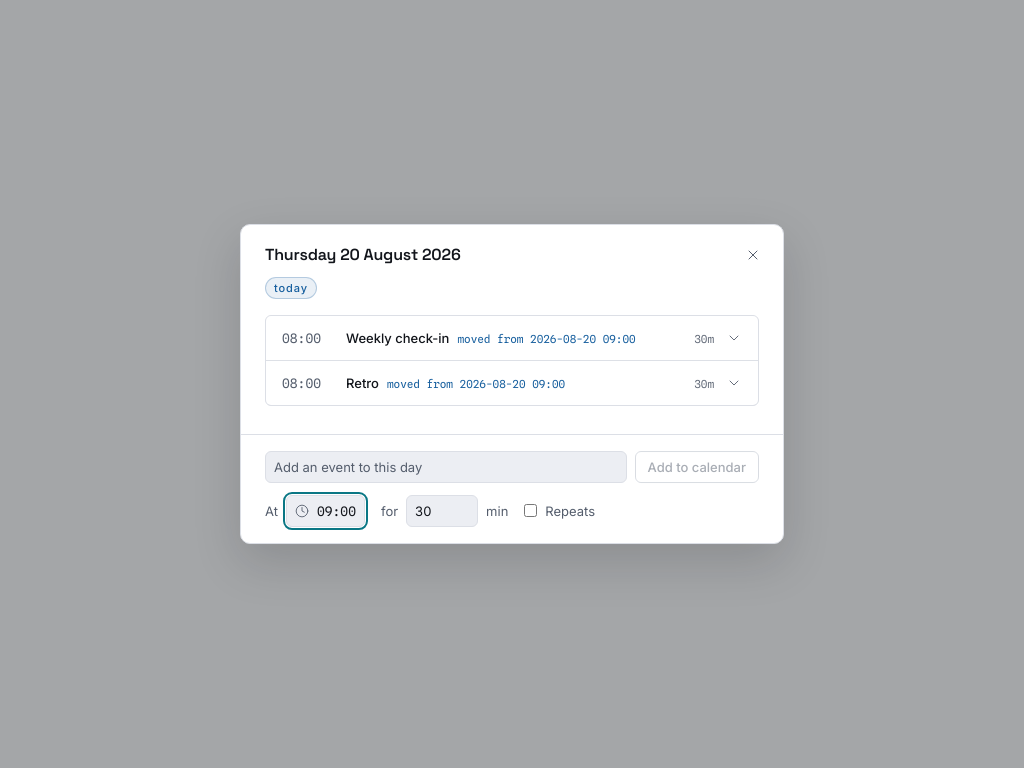
Scenario: the sheet itself › lists the day as lines, and opens one line's controls at a time
Expected: the text "Retro" is shown, x1=346 y1=373 x2=379 y2=393
Expected: the text "30m" is shown 2 times, x1=694 y1=331 x2=714 y2=348; x1=694 y1=376 x2=714 y2=393
Step 1. Click the button "08:00 Weekly check-in moved from 2026-08-20 09:00 30m" → (512, 338), box x1=266 y1=316 x2=758 y2=360
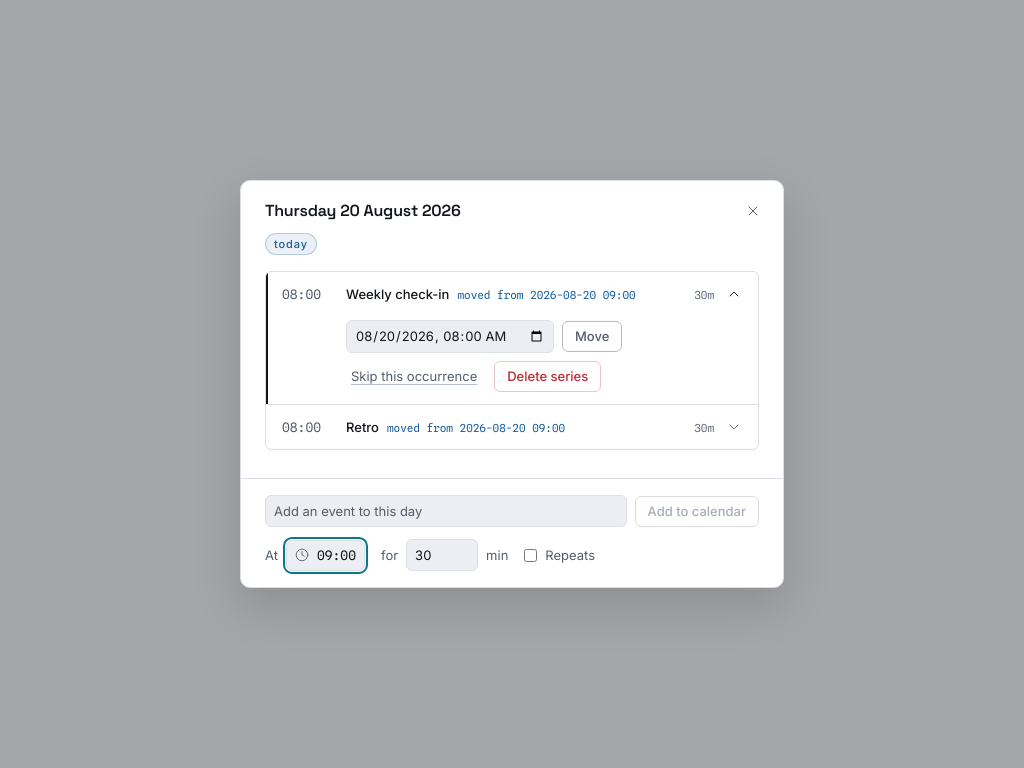
Expected: the number of buttons "Skip this occurrence" is 1, x1=346 y1=362 x2=482 y2=390
Opening the second closes the first.
Step 2. Click the button "08:00 Retro moved from 2026-08-20 09:00 30m" → (512, 427), box x1=266 y1=405 x2=758 y2=449
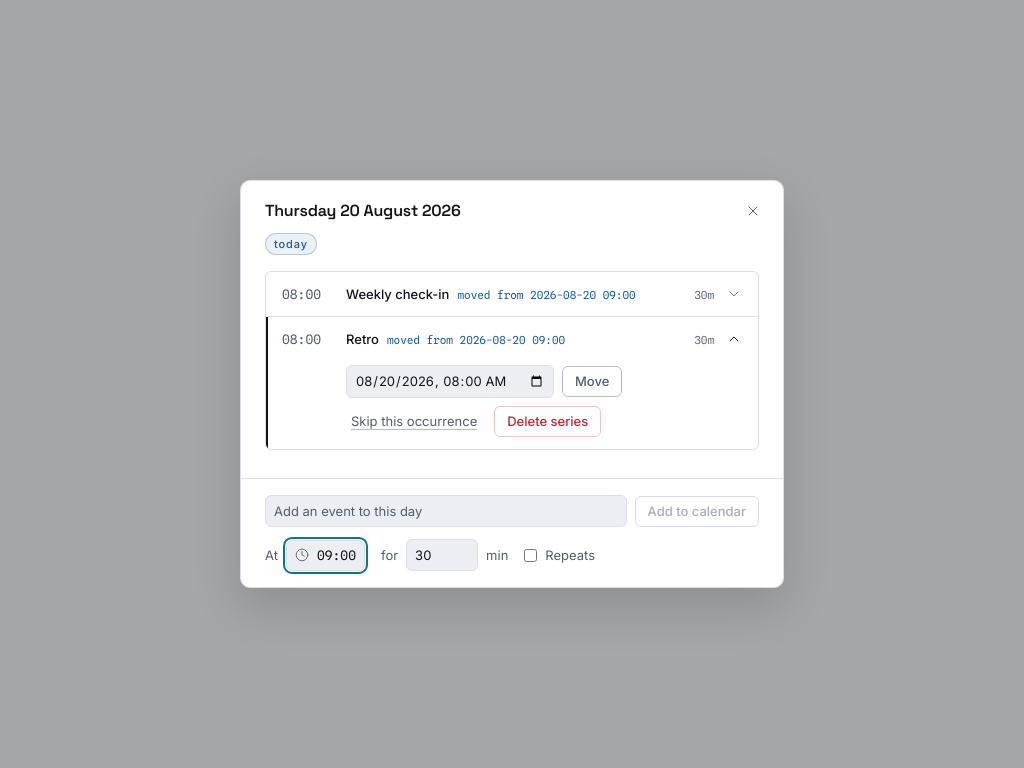
Expected: the number of buttons "Skip this occurrence" is 1, x1=346 y1=408 x2=482 y2=436
Expected: the button "08:00 Retro moved from 2026-08-20 09:00 30m" is expanded, x1=266 y1=317 x2=758 y2=361
